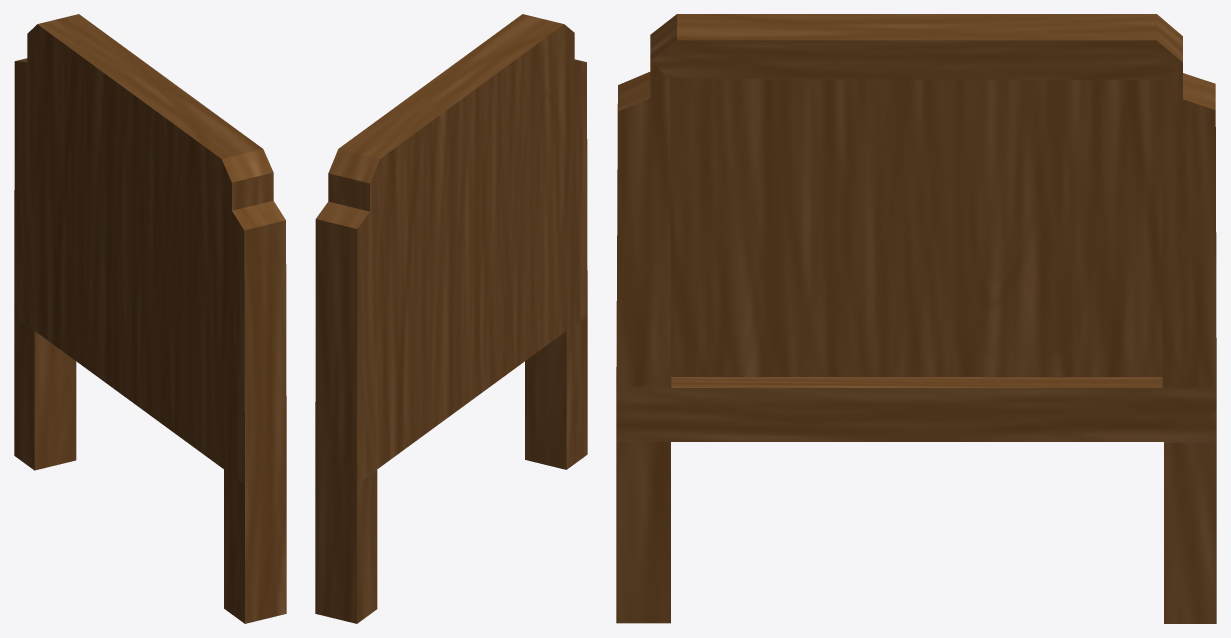
Rendered from Board 1.fbx.
3 views of the same model, side by side, from view 1: azimuth 30°, elevation 25°; view 2: azimuth 150°, elevation 25°; view 3: azimuth 270°, elevation 25° (orthographic). The views are drawn at different scales.
Visible parts, largest first — view 1: Board_1; view 2: Board_1; view 3: Board_1.
Part boxes in pixels (x1,y1,x2,y2): Board_1: [14, 14, 286, 623]; Board_1: [315, 14, 587, 623]; Board_1: [616, 14, 1216, 623].
Size of the model in its own units: 22.73 by 234 by 218.
1 material, 1 textured.
